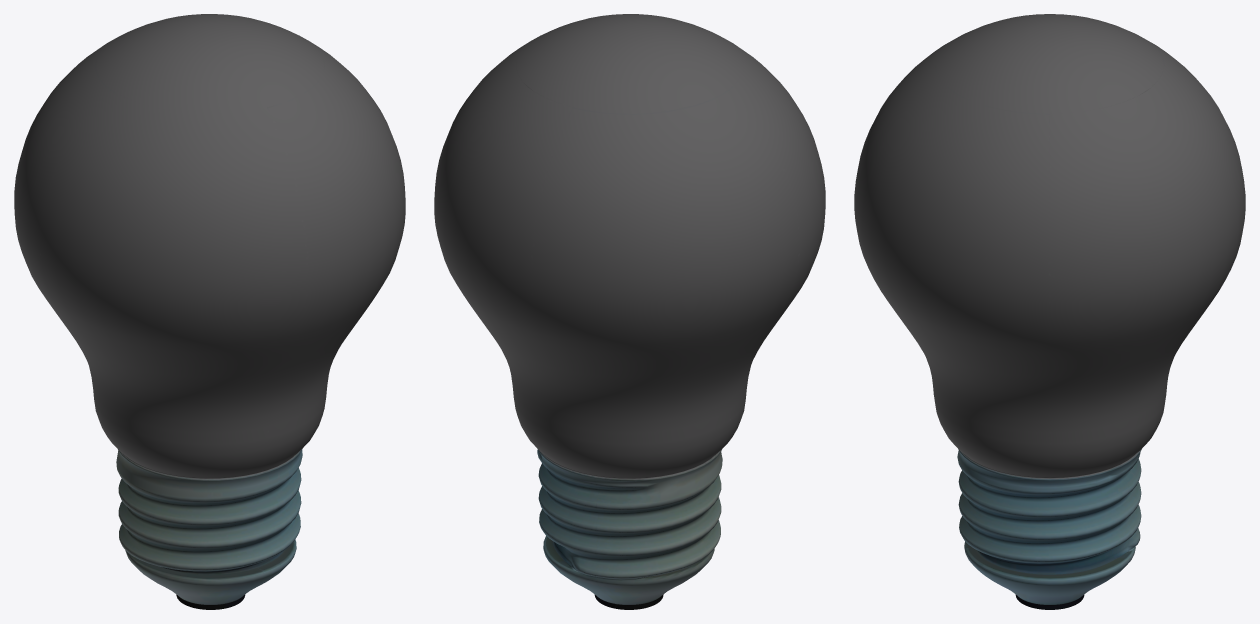
File: lightBulbYBlack.fbx
The picture shows the model from 3 angles, left to right: view 1: azimuth 30°, elevation 25°; view 2: azimuth 150°, elevation 25°; view 3: azimuth 270°, elevation 25°; orthographic projection.
Parts seen in each view (by area): view 1: node_id29; view 2: node_id29; view 3: node_id29.
Part boxes in pixels (box(x1,y1,x2,y2)): node_id29: box(14, 14, 405, 609); node_id29: box(434, 14, 825, 609); node_id29: box(854, 14, 1245, 609).
Size of the model in its own units: 0.3223 by 0.512 by 0.3223.
Materials: 1 (1 with a texture image).
